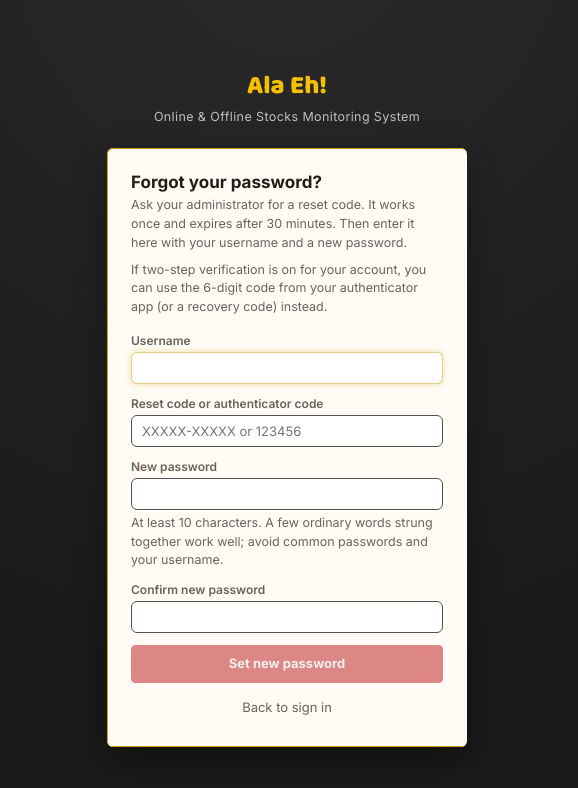
Scenario: ForgotPasswordPage › shows the server's reason and stays on the page, so the person can fix it and retry
The image size is (578, 788).
Type "ana" into the 1st field at (287, 368), box [131,352,443,384]
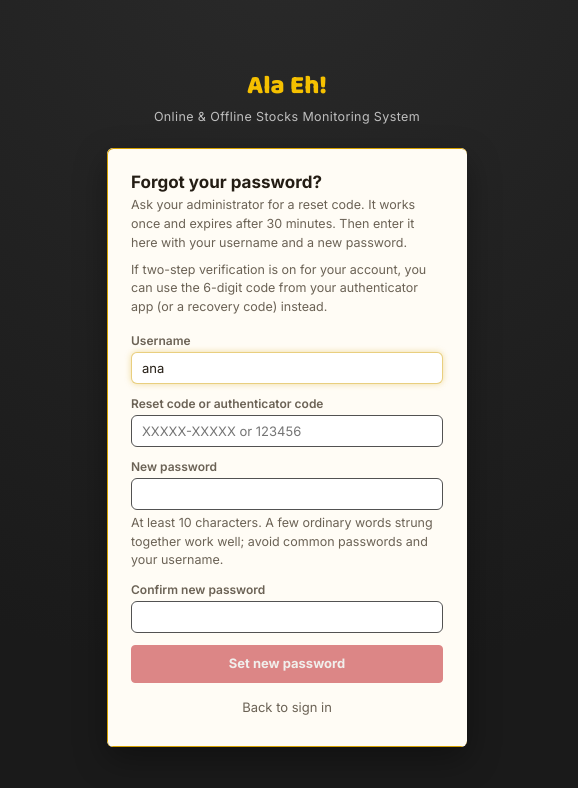
Type "ABCDE-FGHJK" into the field with placeholder "XXXXX-XXXXX or 123456" at (287, 431), box [131,415,443,447]
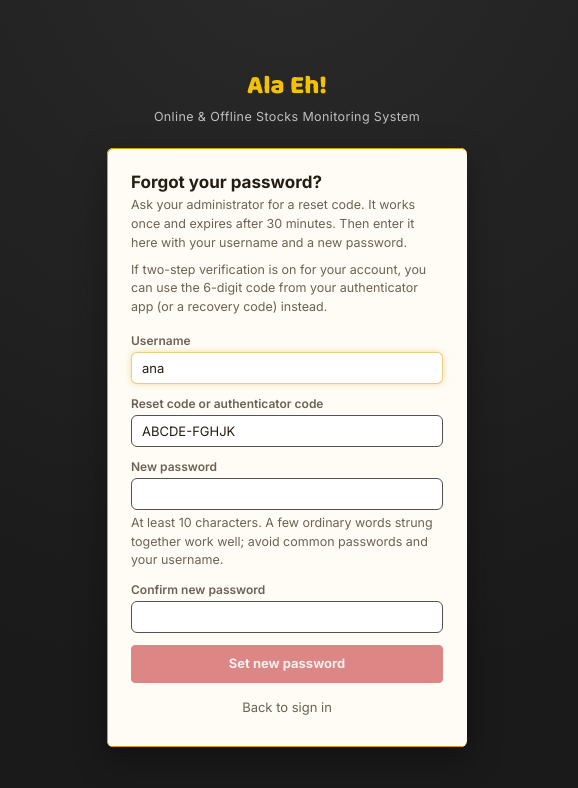
Type "tricycle-mango-lantern" into the 1st password field at (287, 494), box [131,478,443,510]
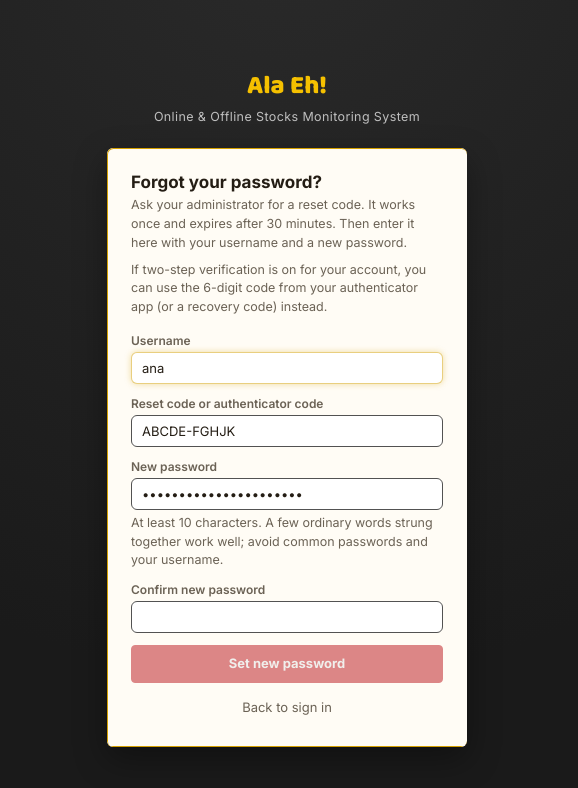
Type "tricycle-mango-lantern" into the password field below "Confirm new password" at (287, 617), box [131,601,443,633]
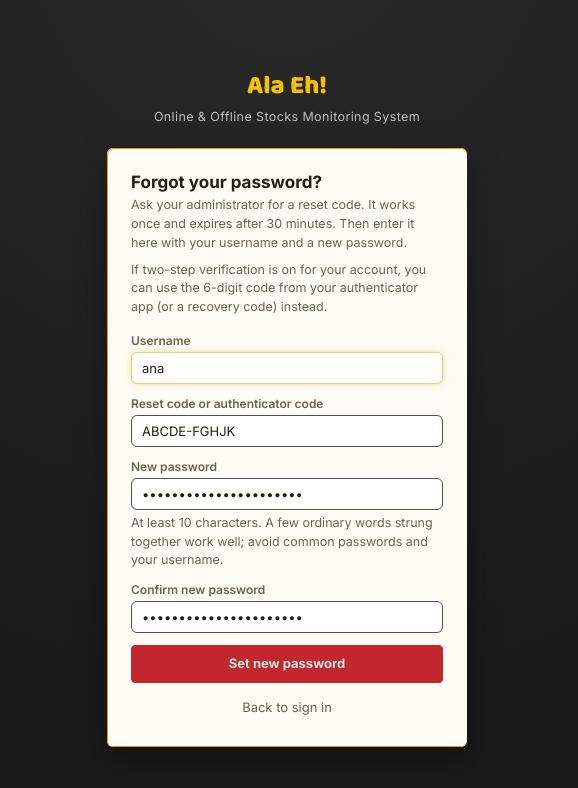
Click the button "Set new password" at (287, 664), box [131,645,443,683]
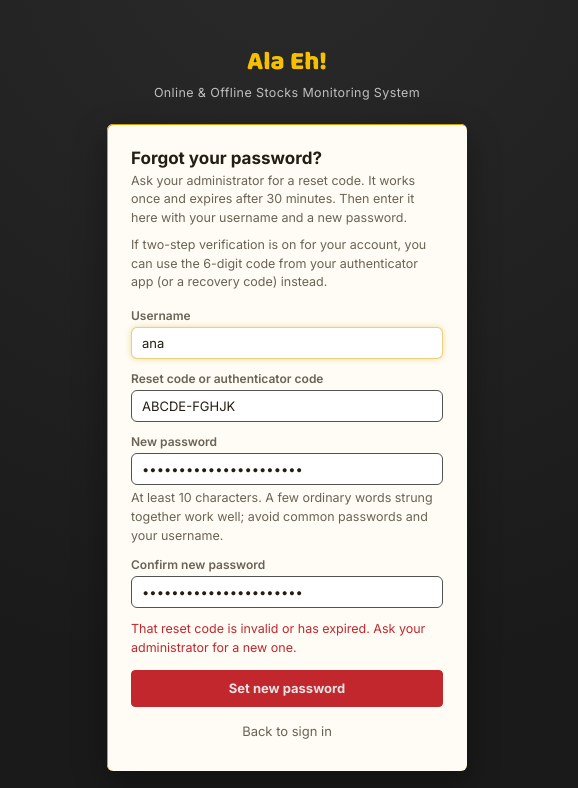
Now the button "Set new password" is enabled, box [131,670,443,707]
Now the message shows "invalid or has expired", box [131,621,425,655]
